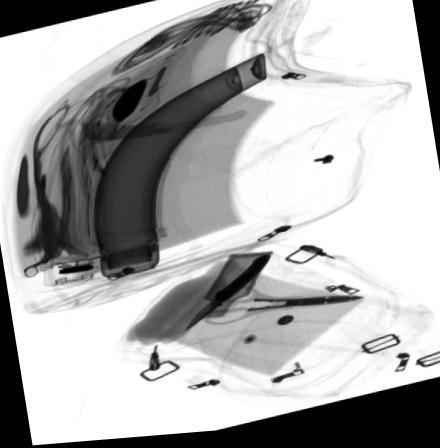Knife: (185, 256, 271, 334)
Scissors: (201, 289, 362, 327)
